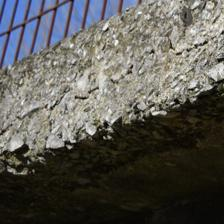Crack: (2, 15, 222, 122)
